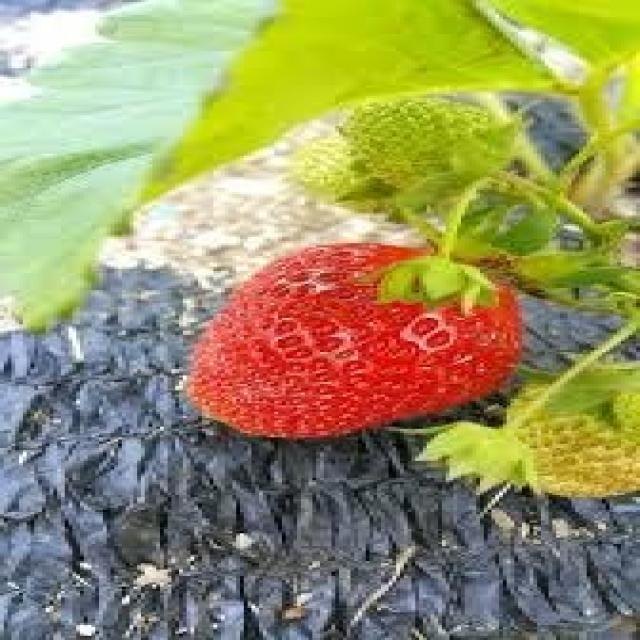mature: (187, 240, 524, 438)
